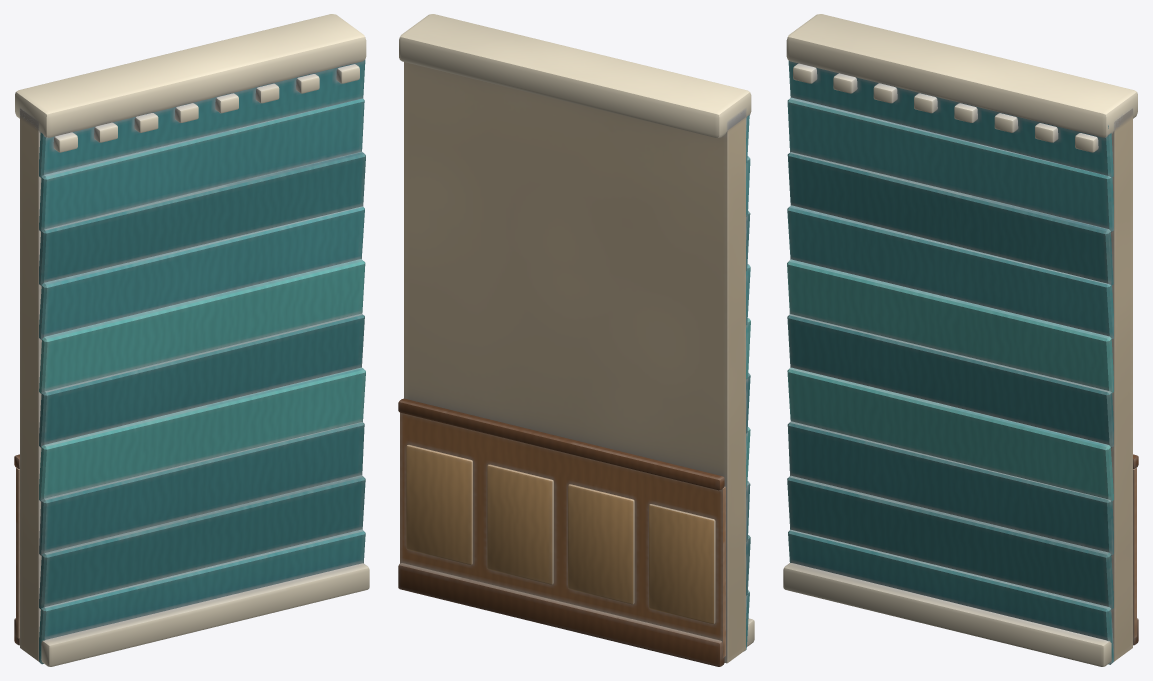
The model's file is wall.glb.
The picture shows the model from 3 angles, left to right: view 1: azimuth 30°, elevation 25°; view 2: azimuth 150°, elevation 25°; view 3: azimuth 330°, elevation 25°; orthographic projection.
Parts seen in each view (by area): view 1: SM_Wall; view 2: SM_Wall; view 3: SM_Wall.
Boxes of the visible parts, x1=… form: SM_Wall: x1=14, y1=14, x2=369, y2=666; SM_Wall: x1=398, y1=14, x2=754, y2=666; SM_Wall: x1=783, y1=14, x2=1138, y2=666.
Size of what is drawn, in the model's own units: 2 by 3.3 by 0.39.
1 material, 1 textured.
